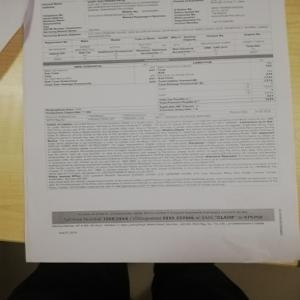table: (41, 52, 275, 114)
text: (45, 116, 282, 190)
